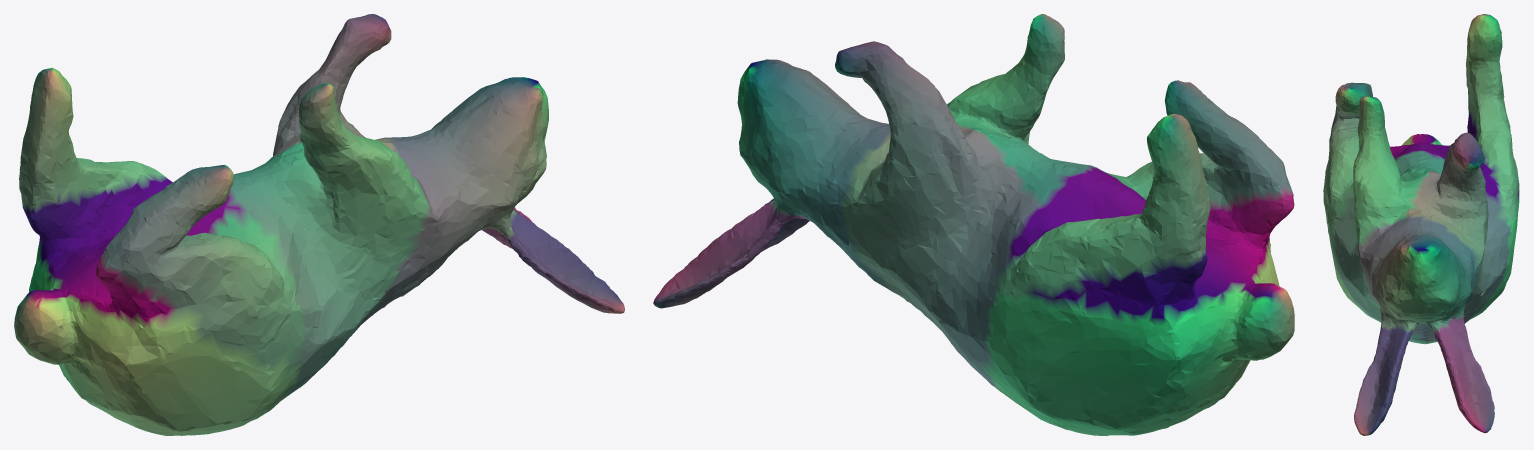
Rendered from rabbit-19.off.obj.
3 renders of one model, left to right at view 1: azimuth 30°, elevation 25°; view 2: azimuth 150°, elevation 25°; view 3: azimuth 270°, elevation 25°, orthographic. The views are drawn at different scales.
Bounding box in the file's own units: 1.47 × 0.8782 × 0.5685.
